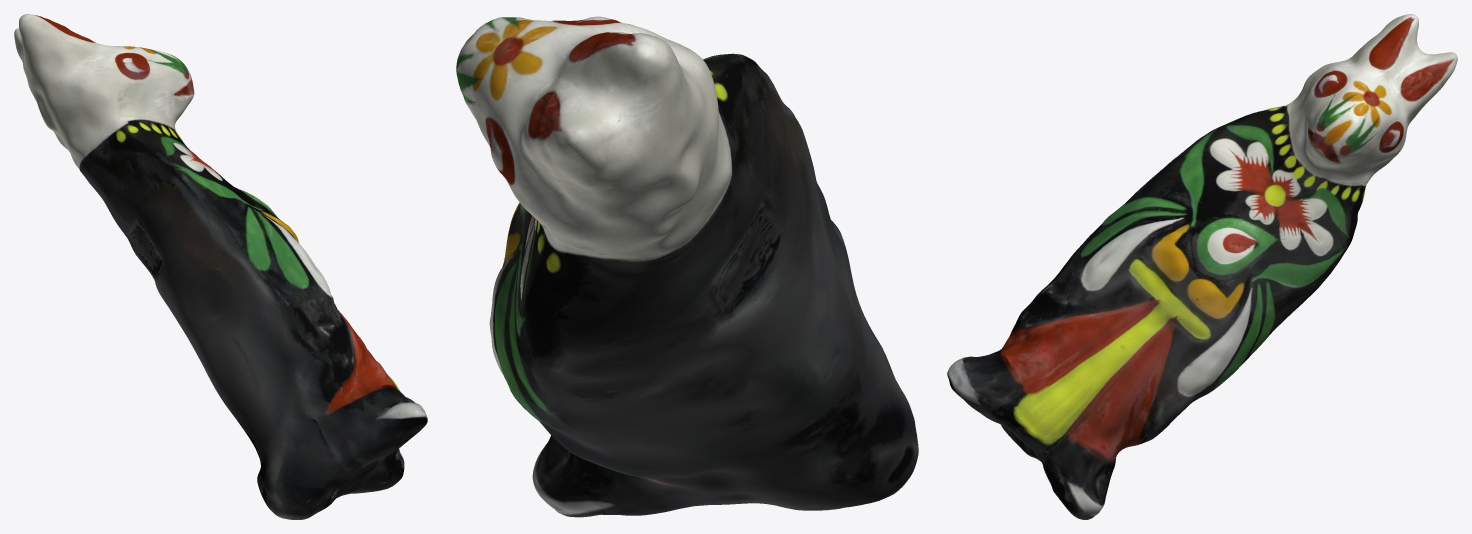
3 renders of one model, left to right at view 1: azimuth 30°, elevation 25°; view 2: azimuth 150°, elevation 25°; view 3: azimuth 270°, elevation 25°, orthographic. The views are drawn at different scales.
Size of the model in its own units: 0.3894 by 0.6706 by 0.7618.
Materials: 1 (1 with a texture image).
